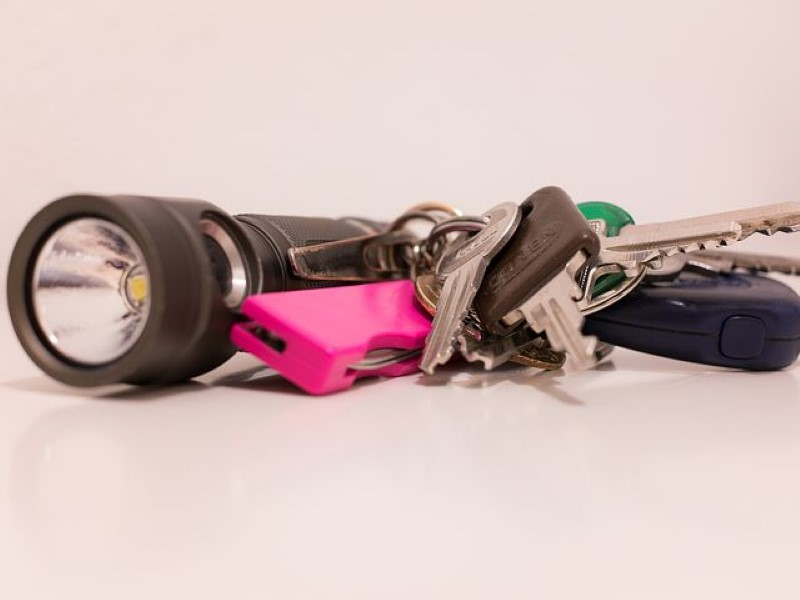carkey: (578, 252, 796, 376)
key: (418, 182, 595, 391)
